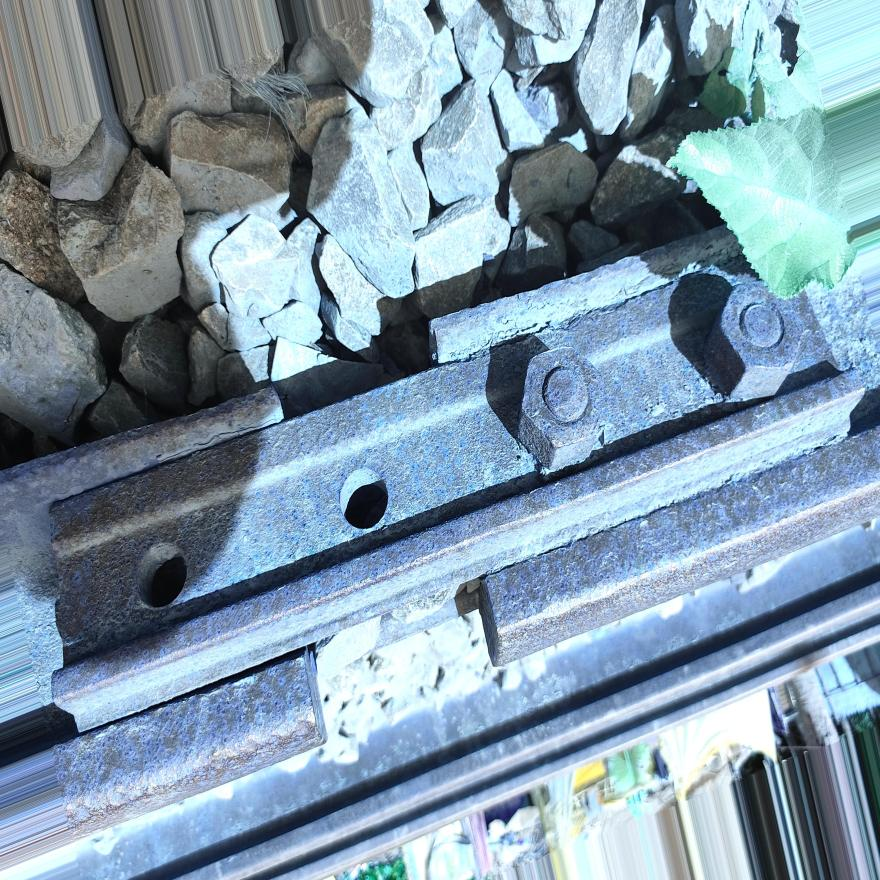railway-gap: (293, 546, 514, 780), (254, 268, 447, 471)
